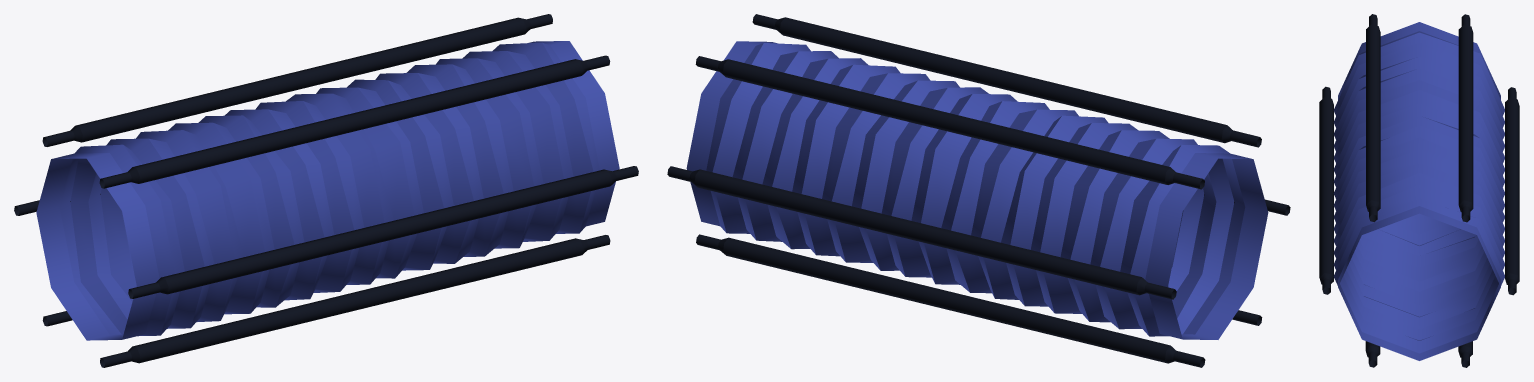
Rendered from PipeSmall_ZigZagZhing_Long.fbx.
3 views of the same model, side by side, from view 1: azimuth 30°, elevation 25°; view 2: azimuth 150°, elevation 25°; view 3: azimuth 270°, elevation 25° (orthographic). The views are drawn at different scales.
Parts seen in each view (by area): view 1: PipeSmall_ZigZagZhing_Long.001; view 2: PipeSmall_ZigZagZhing_Long.001; view 3: PipeSmall_ZigZagZhing_Long.001.
Boxes of the visible parts, left/top/right/bottom form: PipeSmall_ZigZagZhing_Long.001: left=14, top=14, right=638, bottom=367; PipeSmall_ZigZagZhing_Long.001: left=667, top=14, right=1290, bottom=367; PipeSmall_ZigZagZhing_Long.001: left=1319, top=14, right=1519, bottom=367.
Bounding box in the file's own units: 0.2922 × 0.1082 × 0.1233.
